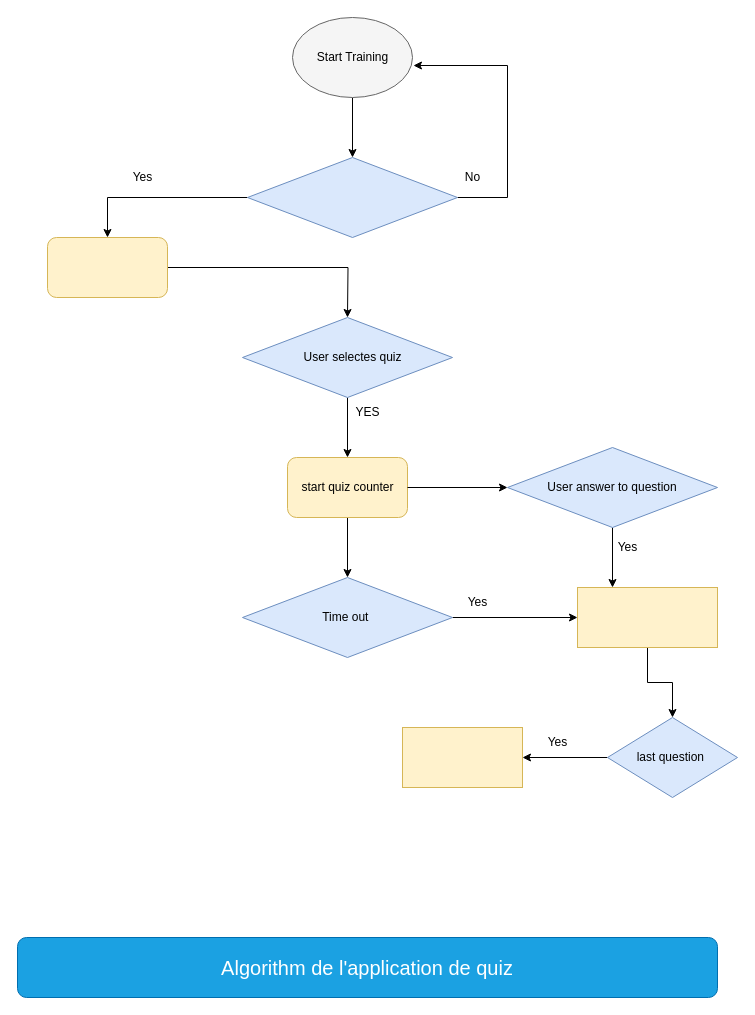
The diagram is 755 pixels wide and 1015 high, and some of its shapes have lost their labels. The centre of each missing label's shape, as x and y in pixels:
"list quizes" goes at (x=107, y=267).
"pass to next question" goes at (x=647, y=617).
"show result" goes at (x=462, y=757).
"User Entered name" goes at (x=352, y=197).
